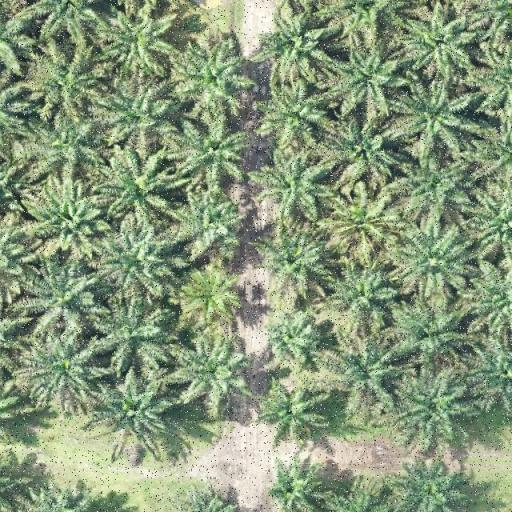Ganoderma: (336, 202, 385, 250), (186, 273, 236, 320)
